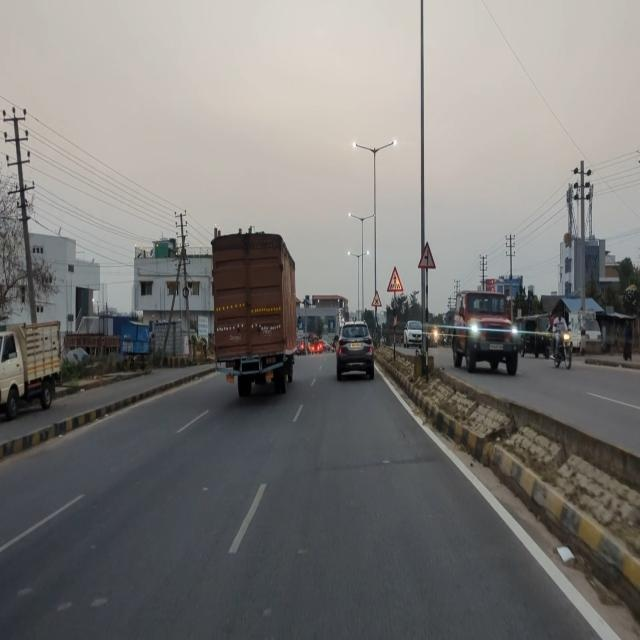bien_nguy_hiem: (417, 240, 438, 272), (386, 266, 403, 293), (371, 290, 382, 307)
